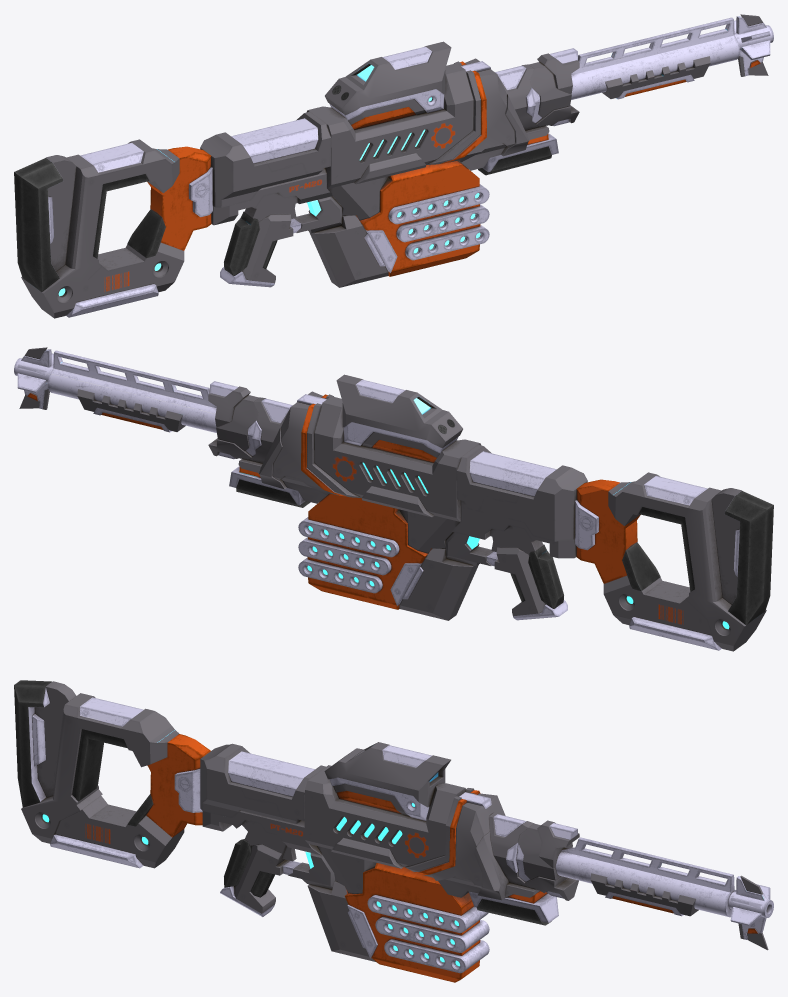
File: gun2.glb
The picture shows the model from 3 angles, top to bottom: view 1: azimuth 30°, elevation 25°; view 2: azimuth 150°, elevation 25°; view 3: azimuth 330°, elevation 25°; orthographic projection.
Parts seen in each view (by area): view 1: Object_3, Object_2; view 2: Object_3, Object_2; view 3: Object_3, Object_2.
Part boxes in pixels (box(x1,y1,x2,y2)): Object_3: box(21, 14, 768, 318); Object_2: box(14, 16, 773, 317); Object_3: box(19, 347, 766, 651); Object_2: box(14, 349, 773, 650); Object_3: box(21, 681, 768, 982); Object_2: box(14, 680, 773, 973).
Size of the model in its own units: 4.62 by 1.25 by 0.372.
2 materials, 2 textured.
